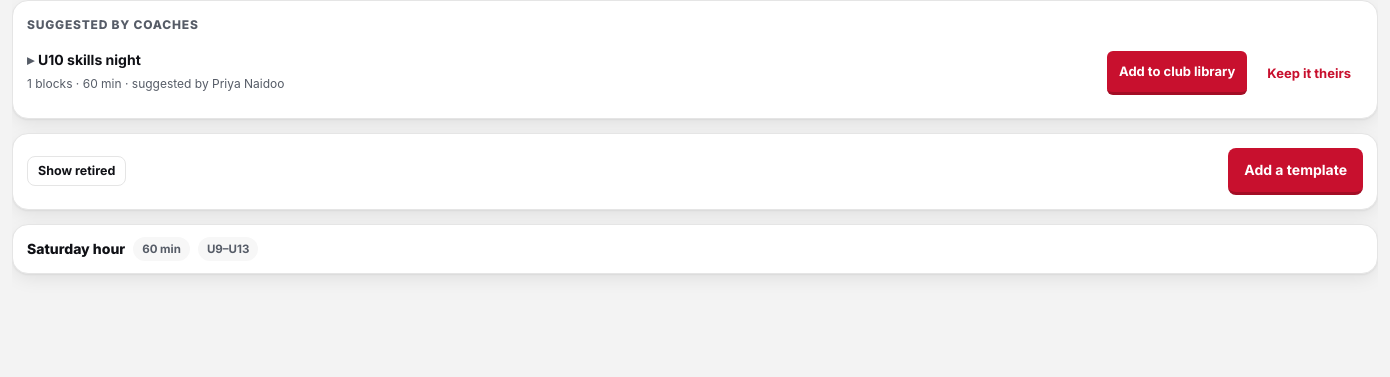
Test: TrainingTemplates — coach suggestions › names who suggested it, and opens the running order to read before deciding
The width and height of the screenshot is (1390, 377).
Expected: the text "1 blocks · 60 min · suggested by Priya Naidoo" is shown, [27,76,284,91]
Click the button with test id "submission-toggle": (89, 60) [27,50,1099,96]
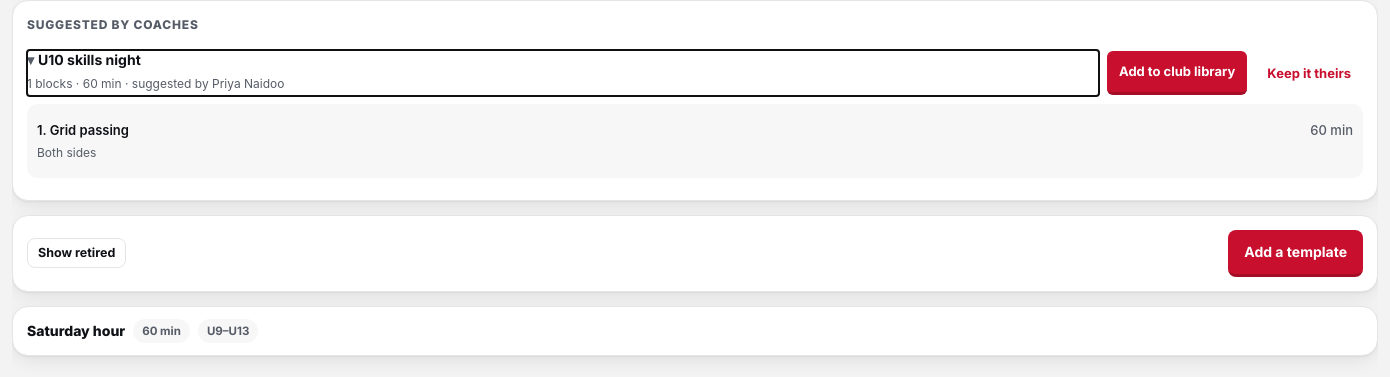
Expected: the text "1. Grid passing" is shown, [37,120,129,141]
Expected: the text "Both sides" is shown, [37,145,96,160]
